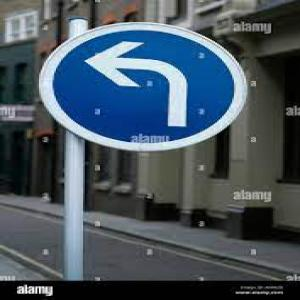go left: (38, 18, 255, 154)
